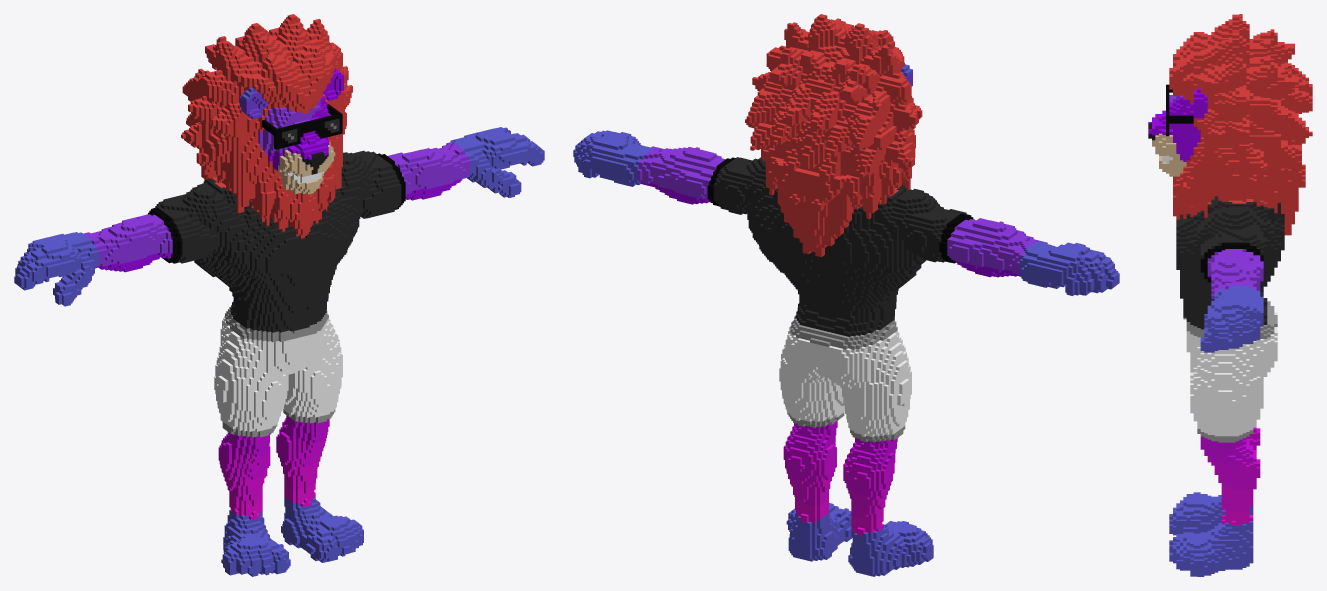
The model's file is 632--BUPGYxJ.glb.
The picture shows the model from 3 angles, left to right: view 1: azimuth 30°, elevation 25°; view 2: azimuth 150°, elevation 25°; view 3: azimuth 270°, elevation 25°; orthographic projection. The views are drawn at different scales.
Visible parts, largest first — view 1: big_smile; view 2: big_smile; view 3: big_smile.
Part boxes in pixels (left/top/right/bottom): big_smile: left=14, top=14, right=544, bottom=576; big_smile: left=573, top=14, right=1119, bottom=576; big_smile: left=1148, top=14, right=1312, bottom=576.
Bounding box in the file's own units: 17.2 × 16.5 × 4.7.
Materials: 5 (5 with a texture image).
